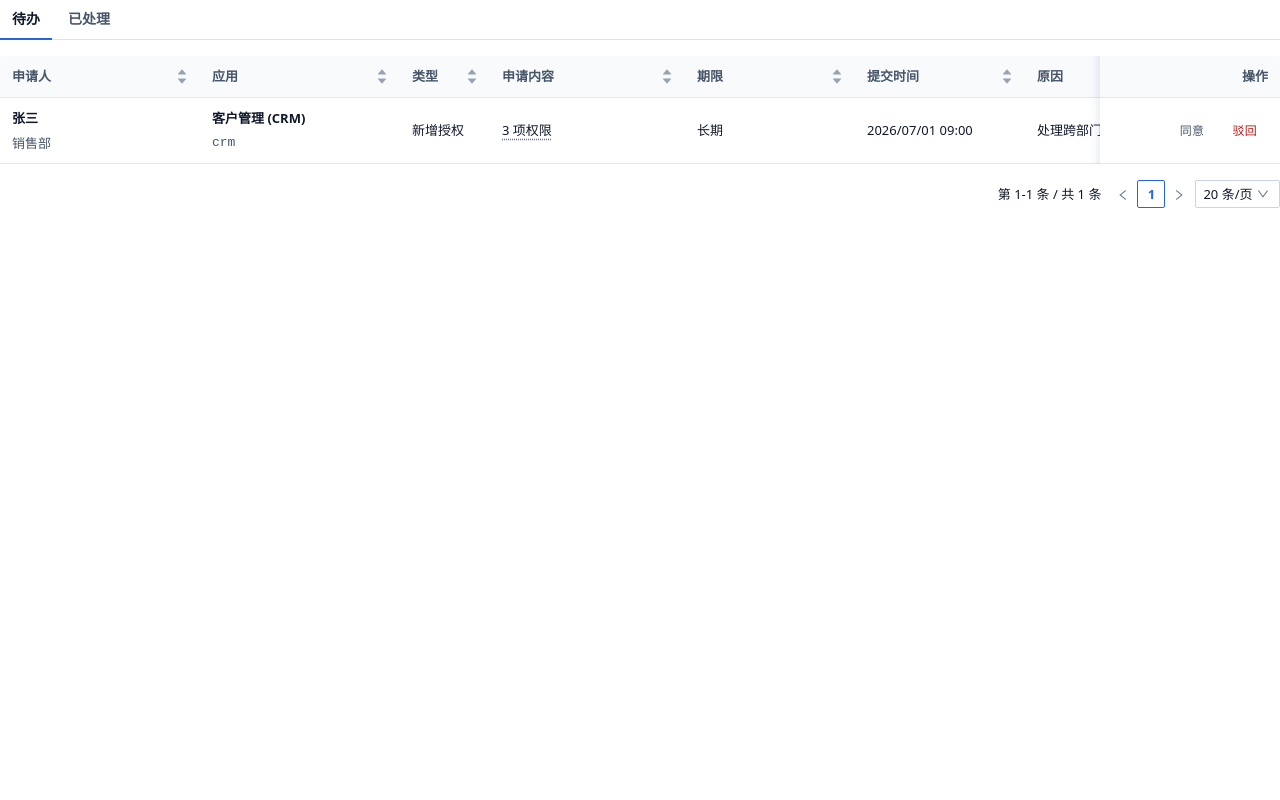
Scenario: PortalApprovalsSection › 审批前加载完整事实，详情失败时 fail-closed 禁止提交
Click the button "同意": (1192, 130) x1=1169 y1=116 x2=1215 y2=144
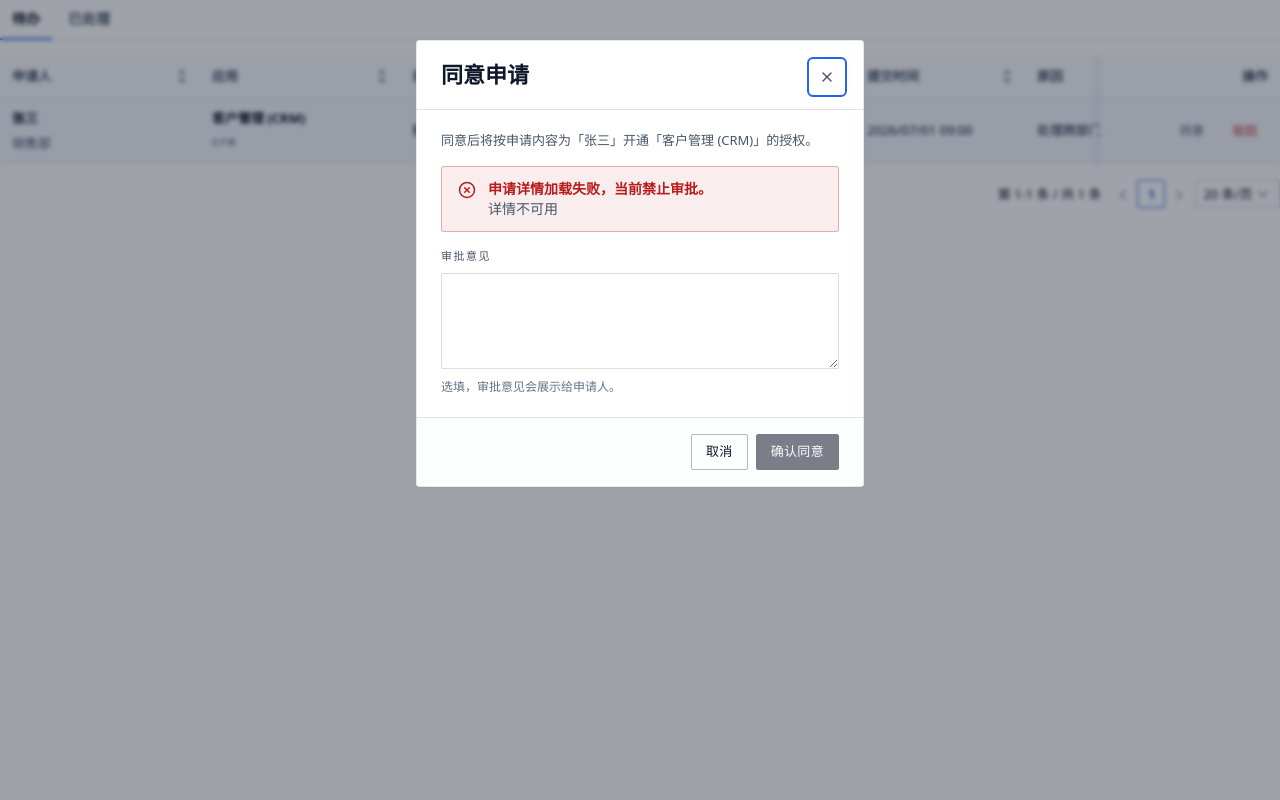
Expected: the text "申请详情加载失败，当前禁止审批。" is shown, x1=488 y1=179 x2=712 y2=199
Expected: the button "确认同意" is disabled, x1=756 y1=434 x2=839 y2=470
